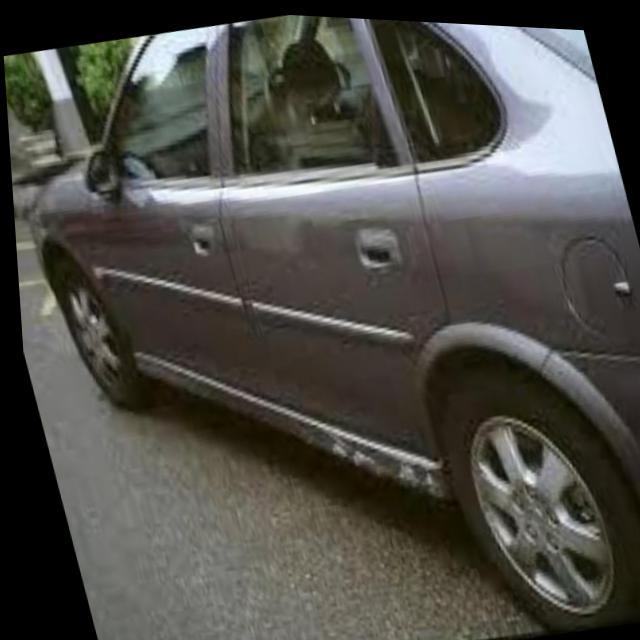rub: (314, 424, 436, 495)
